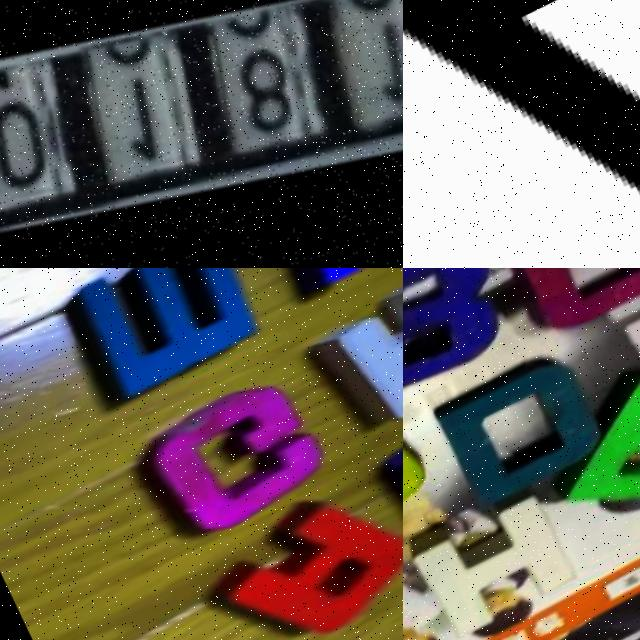0: (0, 79, 78, 225)
1: (75, 52, 200, 197), (327, 10, 403, 146)
8: (198, 35, 319, 170)
A: (403, 0, 640, 268), (185, 473, 403, 640)
B: (403, 268, 513, 423)
D: (420, 346, 612, 522)
F: (536, 363, 640, 539)
G: (124, 373, 333, 558), (492, 268, 640, 352)
H: (403, 486, 580, 640), (297, 268, 403, 451)
M: (57, 268, 266, 412)
